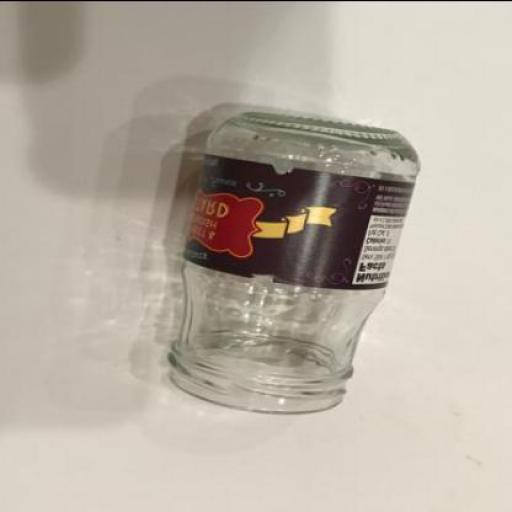glass: (167, 112, 420, 415)
